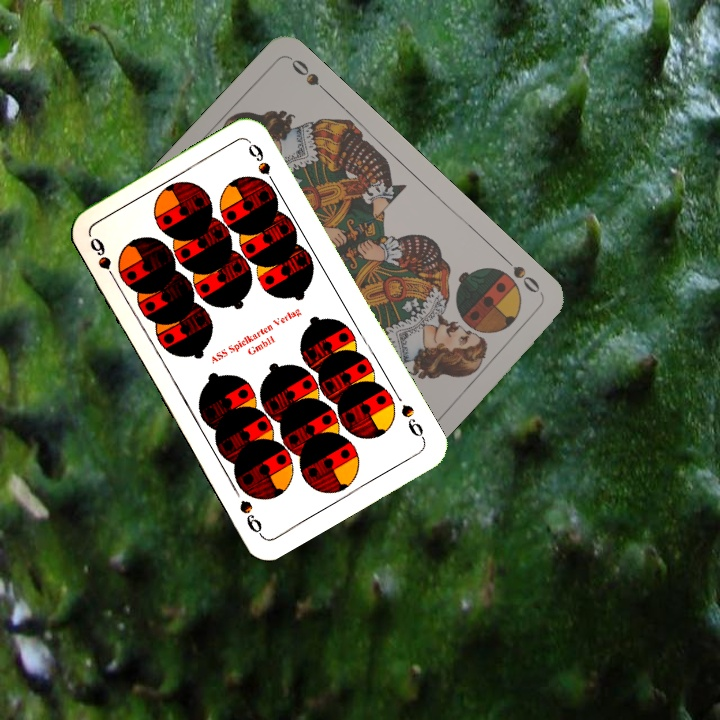S9: (85, 233, 125, 287), (397, 400, 428, 444)
SO: (499, 253, 545, 298)
